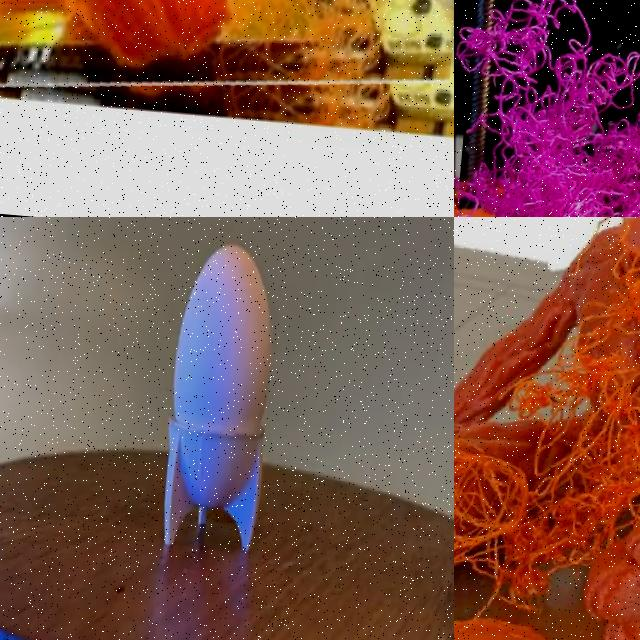spaghetti: (454, 217, 640, 640), (0, 0, 454, 141), (454, 0, 640, 217)
